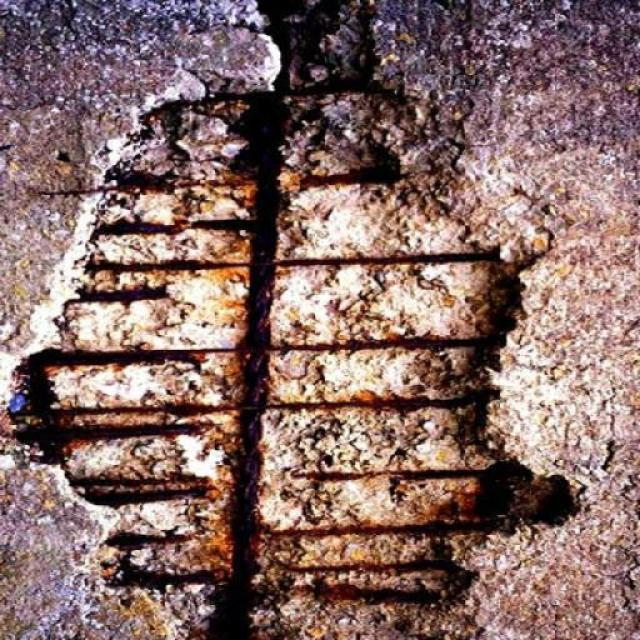D0w0: (0, 5, 598, 639)
